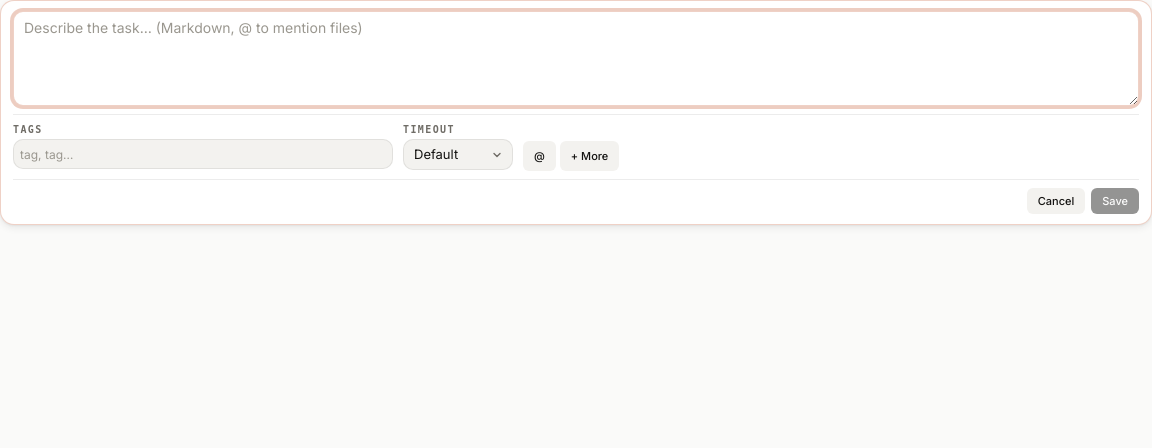
Scenario: TaskComposer layout › keeps the custom timeout input beside the select on one row
Click the dropdown named "Timeout preset". click: click(458, 155)
box: [403,139,513,170]
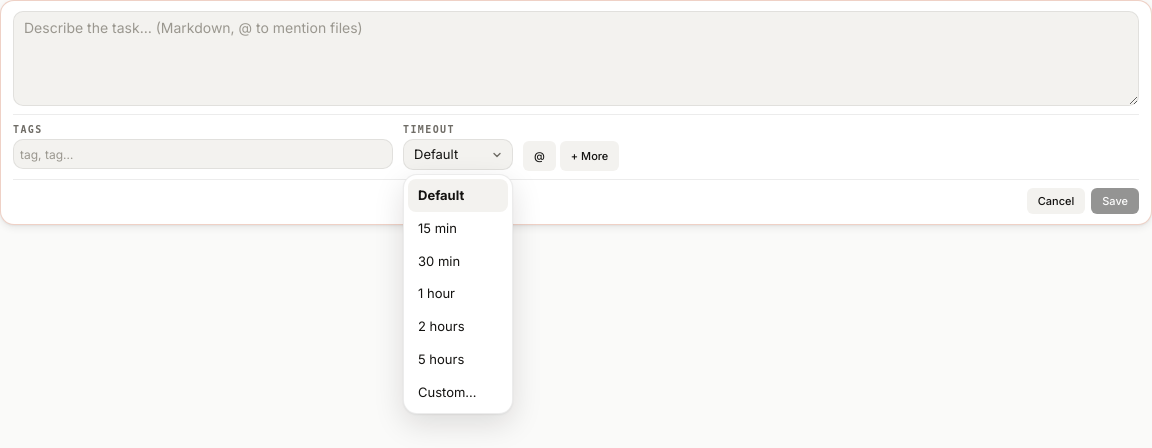
Check: the option with class "app-select__opt" showing "Custom…" is shown
Click the option with class "app-select__opt" showing "Custom…". click: click(447, 392)
box: [418,384,477,400]
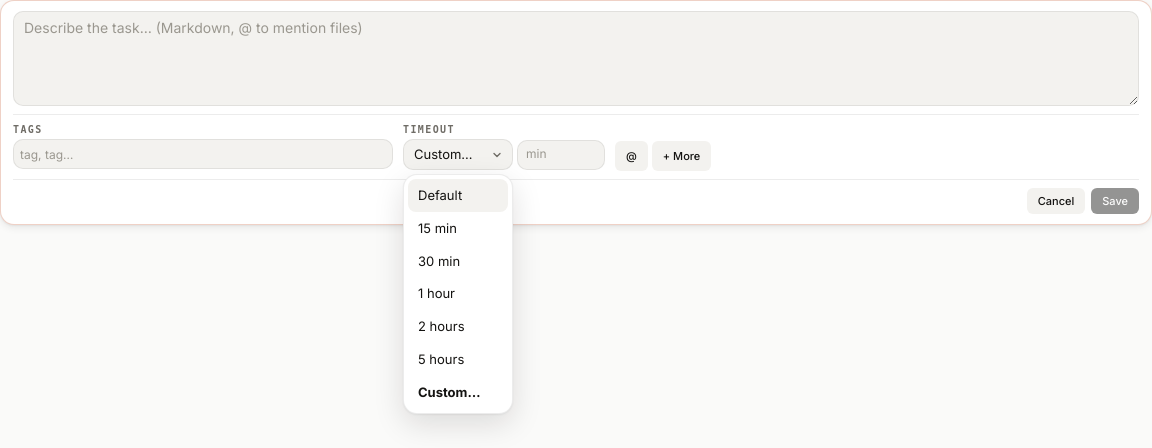
Check: the element named "Custom timeout in minutes" is shown, box [403,139,605,170]
Check: the number field named "Custom timeout in minutes" is shown, box [517,140,605,170]
